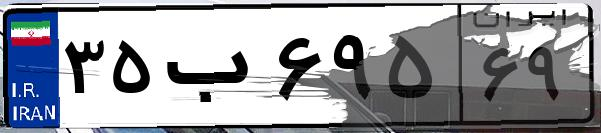3: (57, 26, 110, 100)
5: (385, 28, 445, 110), (110, 28, 158, 98)
6: (270, 28, 330, 110), (475, 38, 525, 113)
9: (330, 28, 385, 110), (525, 38, 570, 115)
ب: (158, 20, 270, 120)
